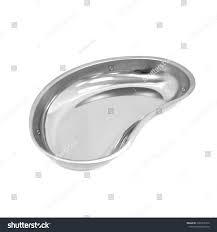Kidney Tray: (25, 52, 191, 167)
